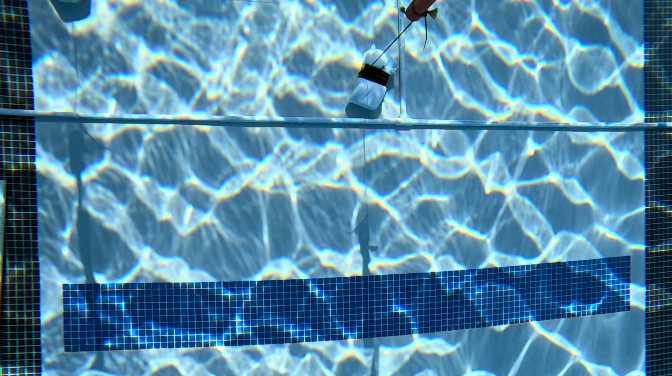sandbag: (348, 48, 396, 107)
